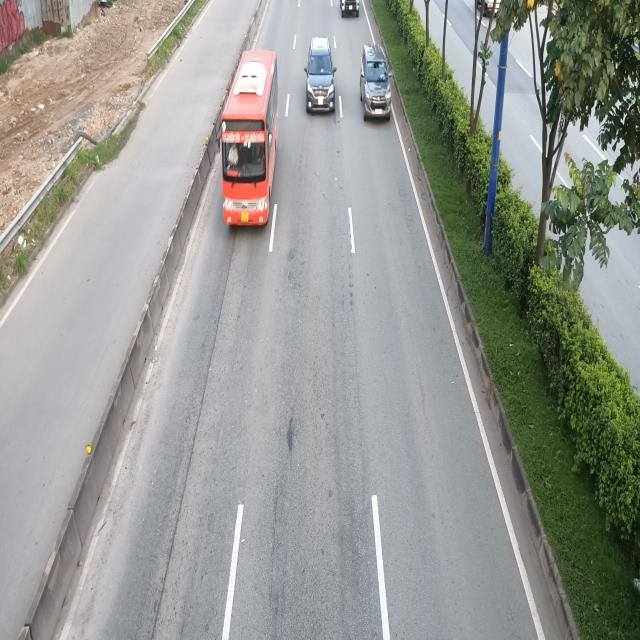car: (358, 43, 392, 121), (303, 37, 336, 114)
coach: (216, 51, 279, 229)
